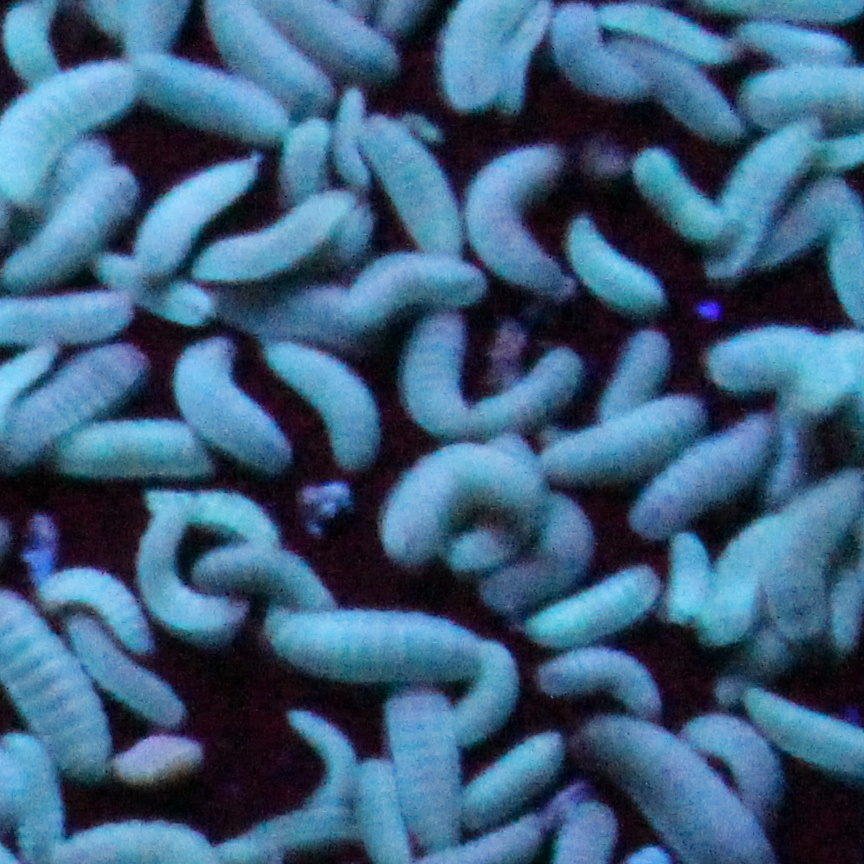larve: (264, 594, 501, 688), (626, 403, 772, 547), (455, 139, 581, 298), (699, 119, 821, 283), (4, 343, 159, 472), (368, 448, 541, 559), (115, 508, 250, 641), (533, 390, 702, 494), (259, 330, 386, 465), (164, 336, 288, 472), (55, 612, 195, 732), (102, 50, 279, 143), (379, 676, 472, 848), (131, 154, 264, 272), (366, 116, 468, 267), (479, 487, 590, 621), (4, 172, 133, 285), (601, 34, 735, 138), (173, 267, 366, 339), (697, 325, 853, 412), (553, 207, 666, 325), (197, 192, 350, 278), (681, 708, 792, 825), (524, 563, 662, 647), (402, 301, 482, 438), (35, 554, 148, 647), (632, 138, 730, 243), (455, 728, 568, 819), (193, 543, 337, 614), (693, 518, 777, 639), (142, 476, 284, 545), (86, 250, 208, 328), (470, 347, 579, 432), (284, 699, 362, 816), (46, 418, 202, 476), (533, 652, 664, 718), (552, 8, 644, 99), (208, 807, 355, 863), (448, 632, 517, 739), (350, 254, 475, 308), (601, 334, 675, 423), (281, 116, 333, 205), (333, 83, 372, 187), (664, 536, 704, 614)
